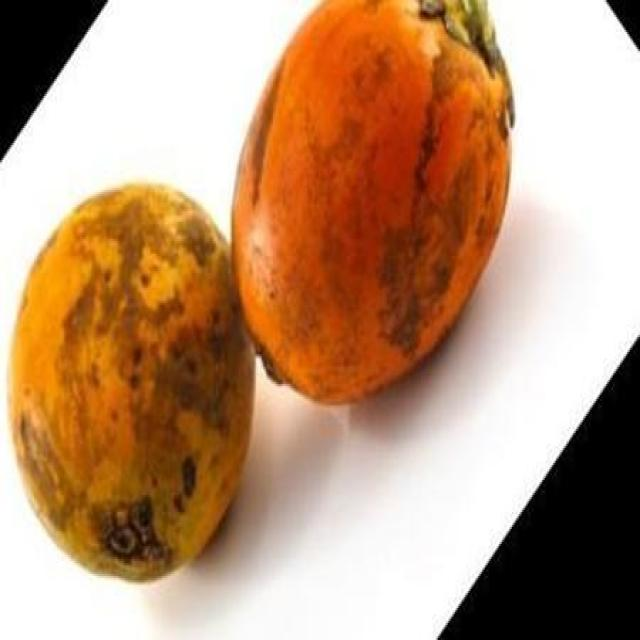good: (232, 0, 513, 407), (7, 183, 256, 587)
